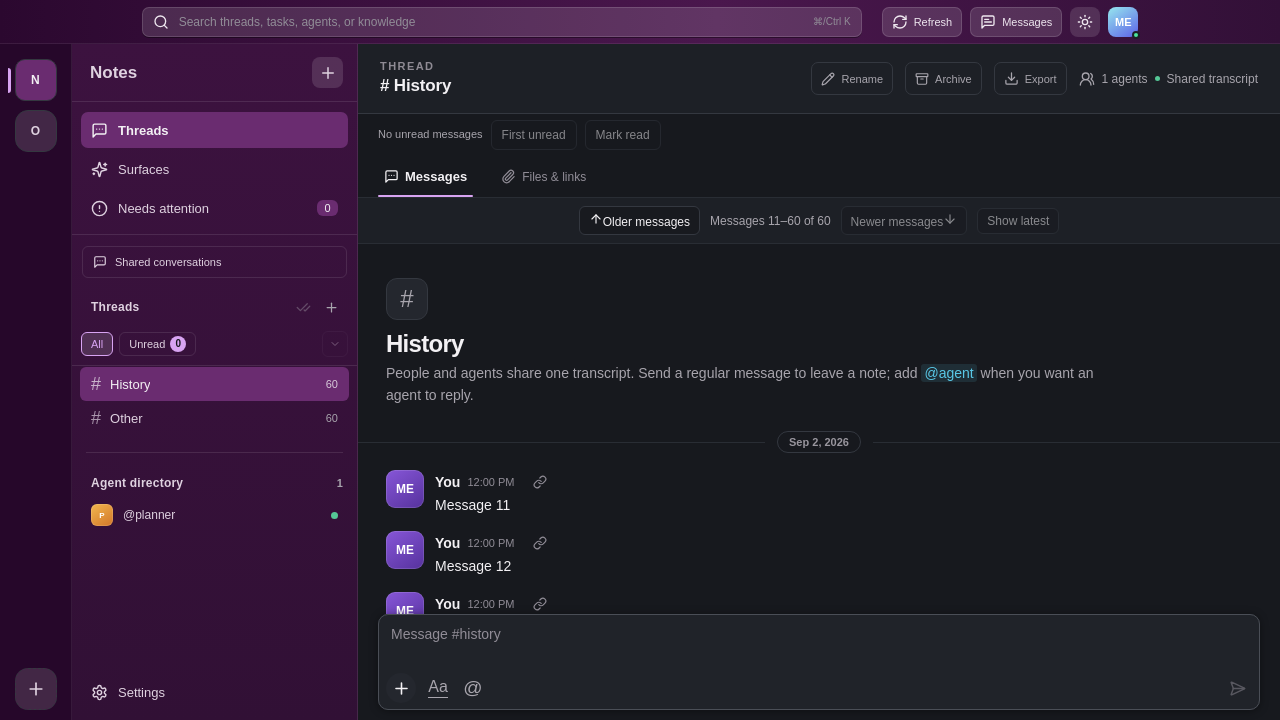
Conversation history pagination › does not let Show latest on a bare thread suppress the next thread load
The image size is (1280, 720).
Expected: the text "Messages 11–60 of 60" is shown, [710,214,830,228]
Click the button "Older messages".
click(639, 220)  # box [579,206,700,235]
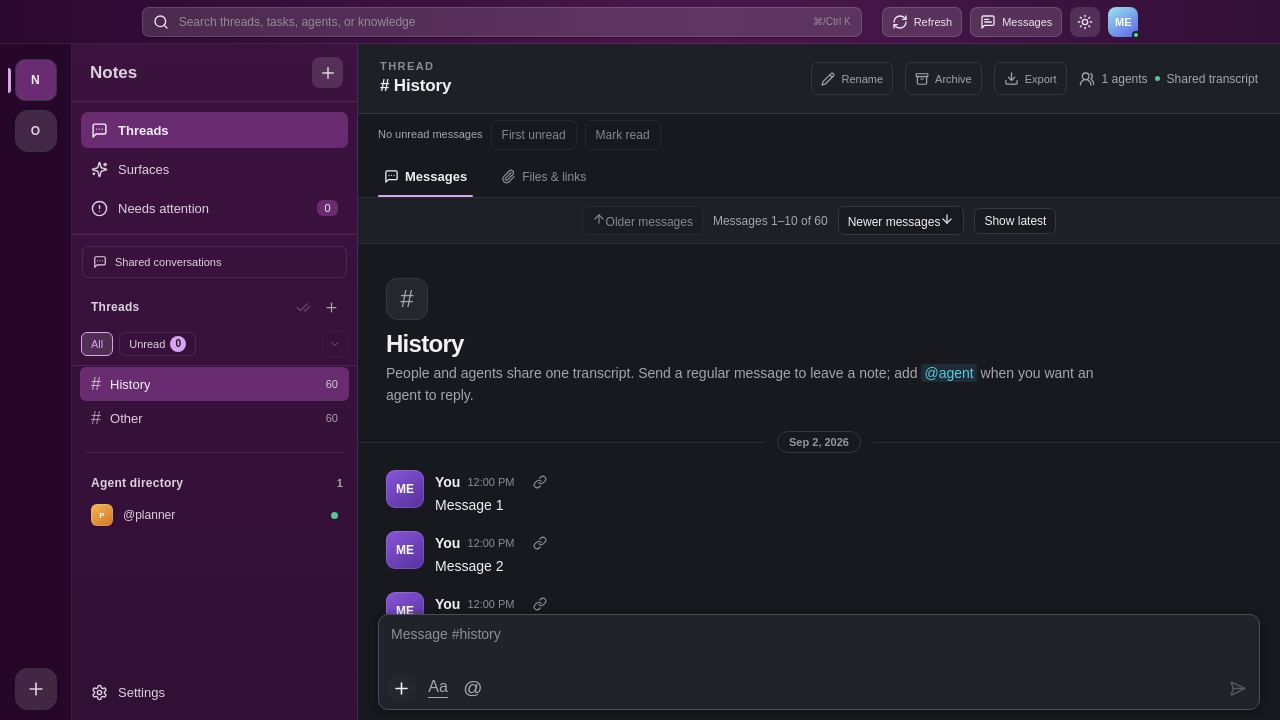
Now the text "Messages 1–10 of 60" is shown, box [713,214,828,228]
Click the button "Show latest".
click(1015, 220)  # box [974,208,1056,234]
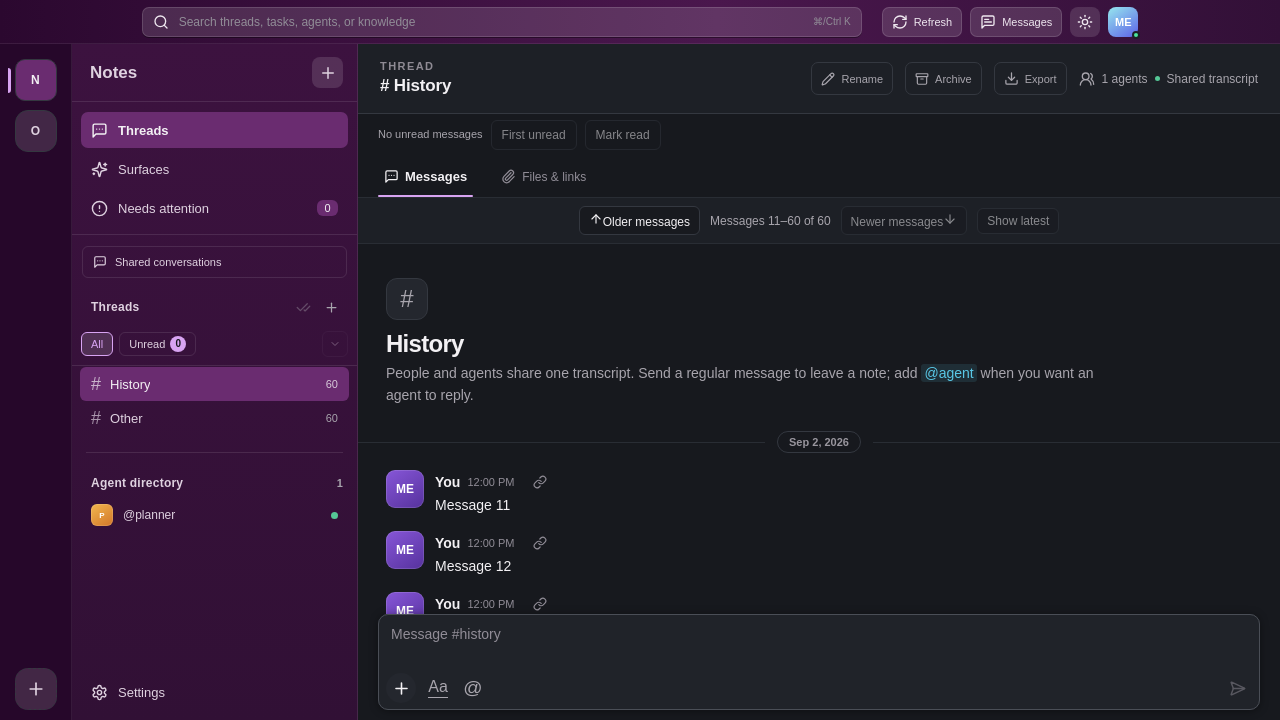
Now the text "Messages 11–60 of 60" is shown, box [710,214,830,228]
Click the button named "#Other".
click(126, 418)  # box [80,401,349,435]
(page scrolled)
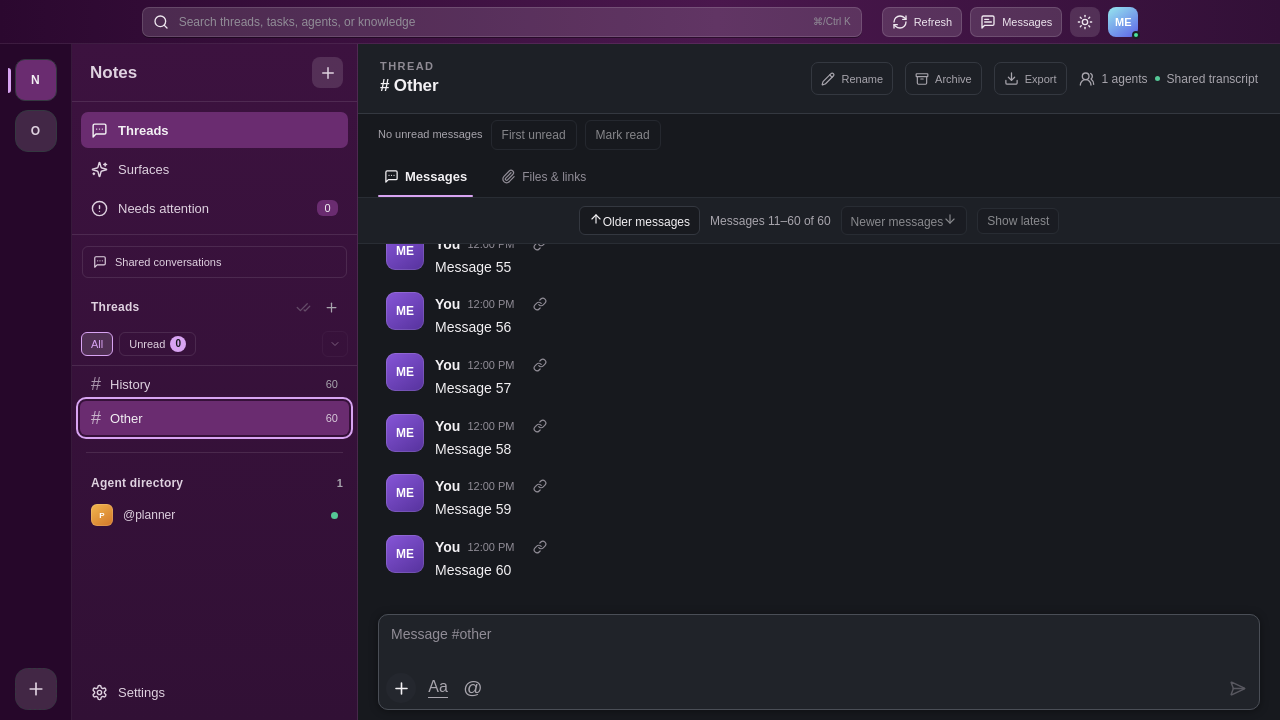
Now the heading "# Other" is shown, box [380,75,438,97]
Now the text "Message 60" is shown, box [435,562,511,578]
